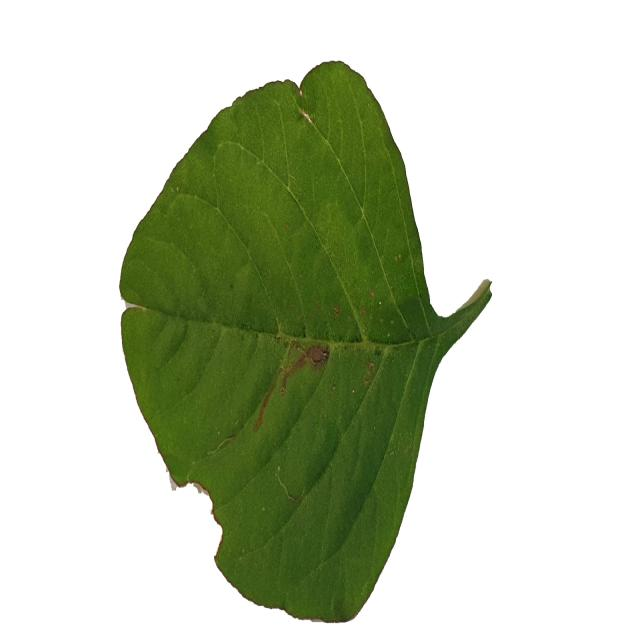Medicinal-Arive Dantu: (118, 58, 494, 632)
